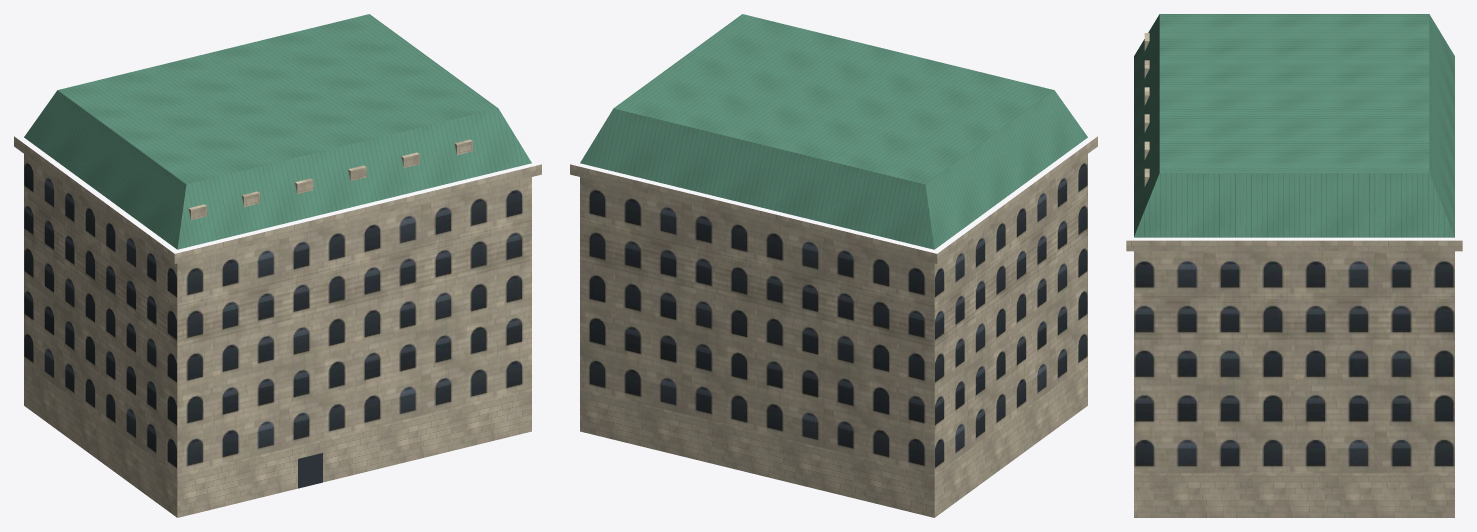
File: dc_beaux.glb
3 renders of one model, left to right at view 1: azimuth 30°, elevation 25°; view 2: azimuth 150°, elevation 25°; view 3: azimuth 270°, elevation 25°, orthographic. The views are drawn at different scales.
Parts seen in each view (by area): view 1: dc_beaux; view 2: dc_beaux; view 3: dc_beaux.
Part boxes in pixels (x1,y1,x2,y2): dc_beaux: [14, 14, 541, 517]; dc_beaux: [570, 14, 1097, 517]; dc_beaux: [1126, 14, 1462, 517].
Bounding box in the file's own units: 41.4 × 34.4 × 31.4.
5 materials, 5 textured.
